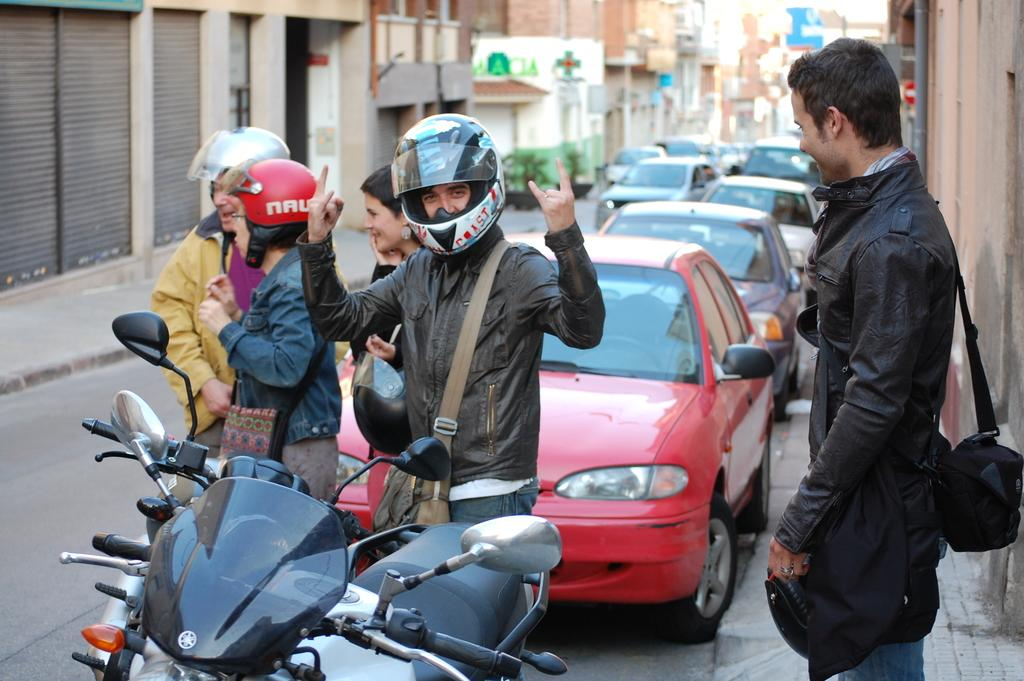helmet: (391, 113, 506, 258), (186, 126, 291, 228), (219, 158, 324, 258)
nohelmet: (786, 36, 903, 191), (360, 162, 436, 256)
